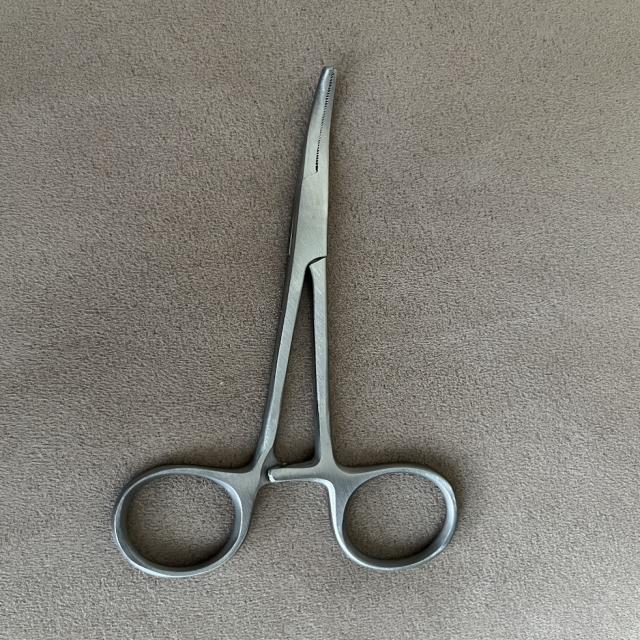scissor: (103, 60, 481, 590)
